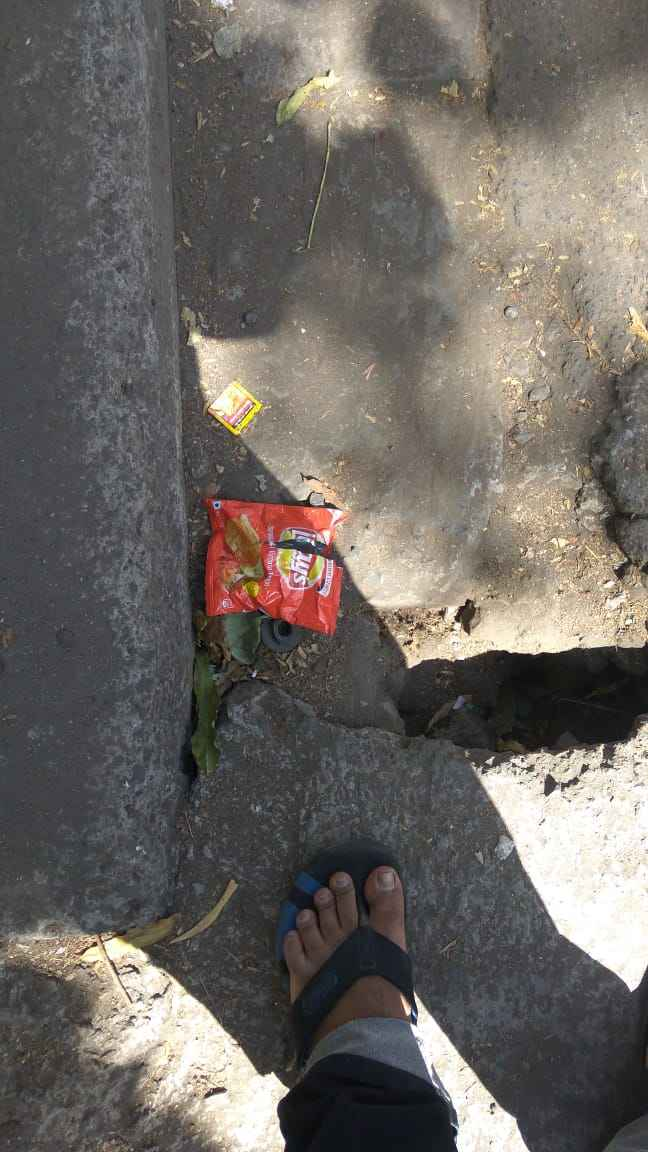Lays: (275, 520, 330, 608)
